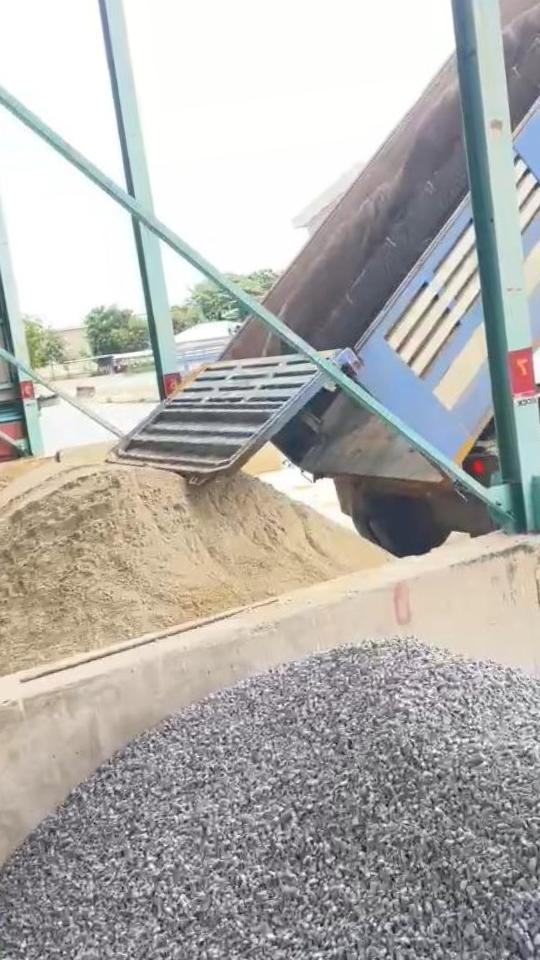gravel: (0, 641, 540, 960)
sand: (0, 464, 389, 681), (0, 459, 52, 530)
